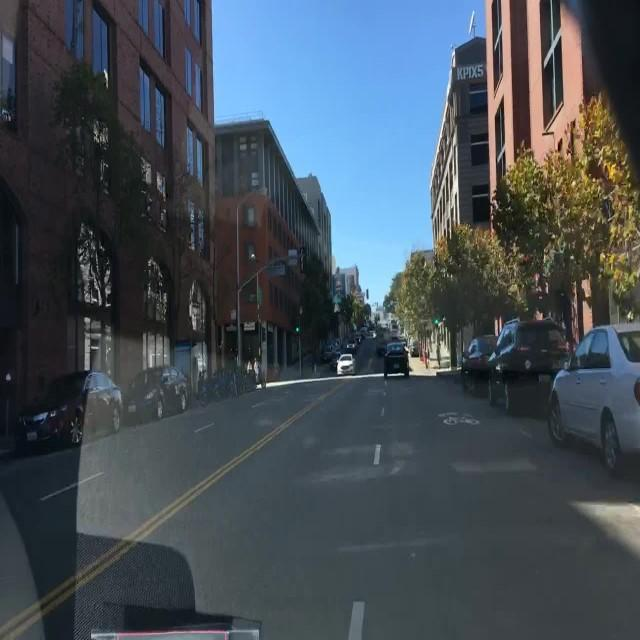normal: (445, 295, 640, 535)
